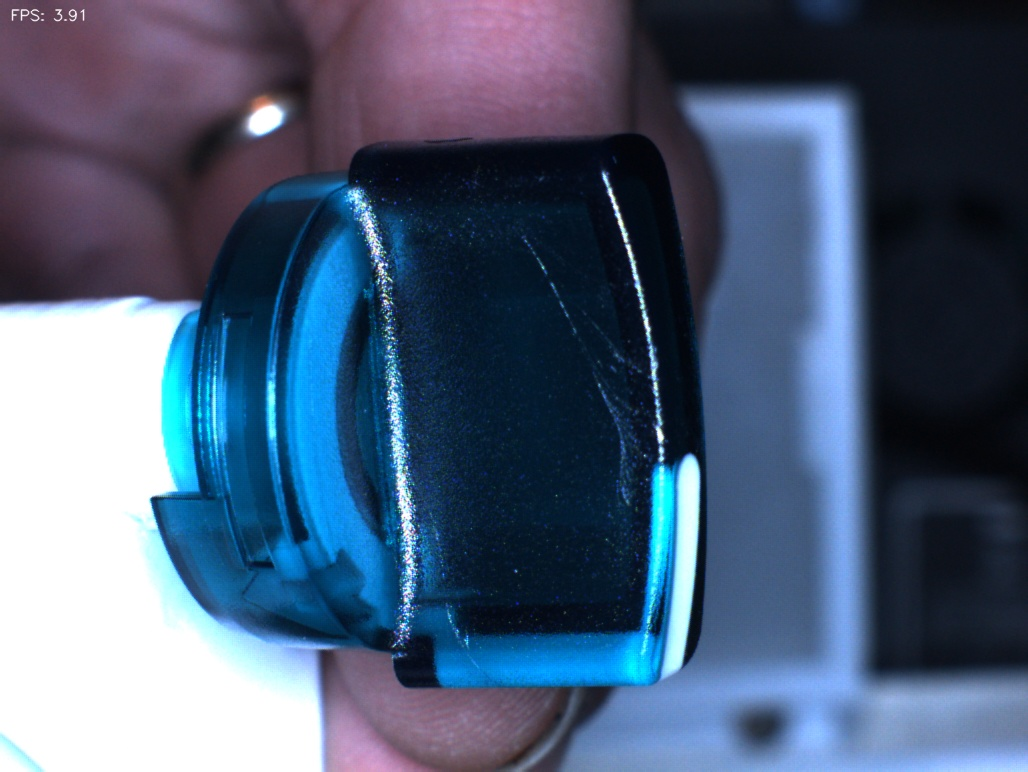Givrage: (511, 235, 659, 498)
